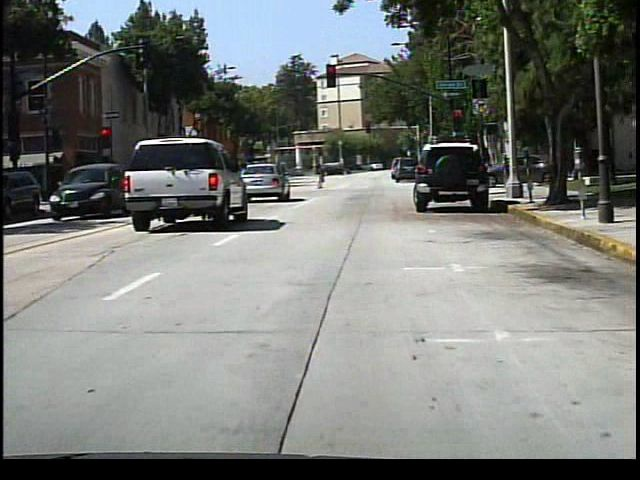person: (552, 140, 573, 188), (312, 158, 330, 192), (459, 152, 476, 185)
